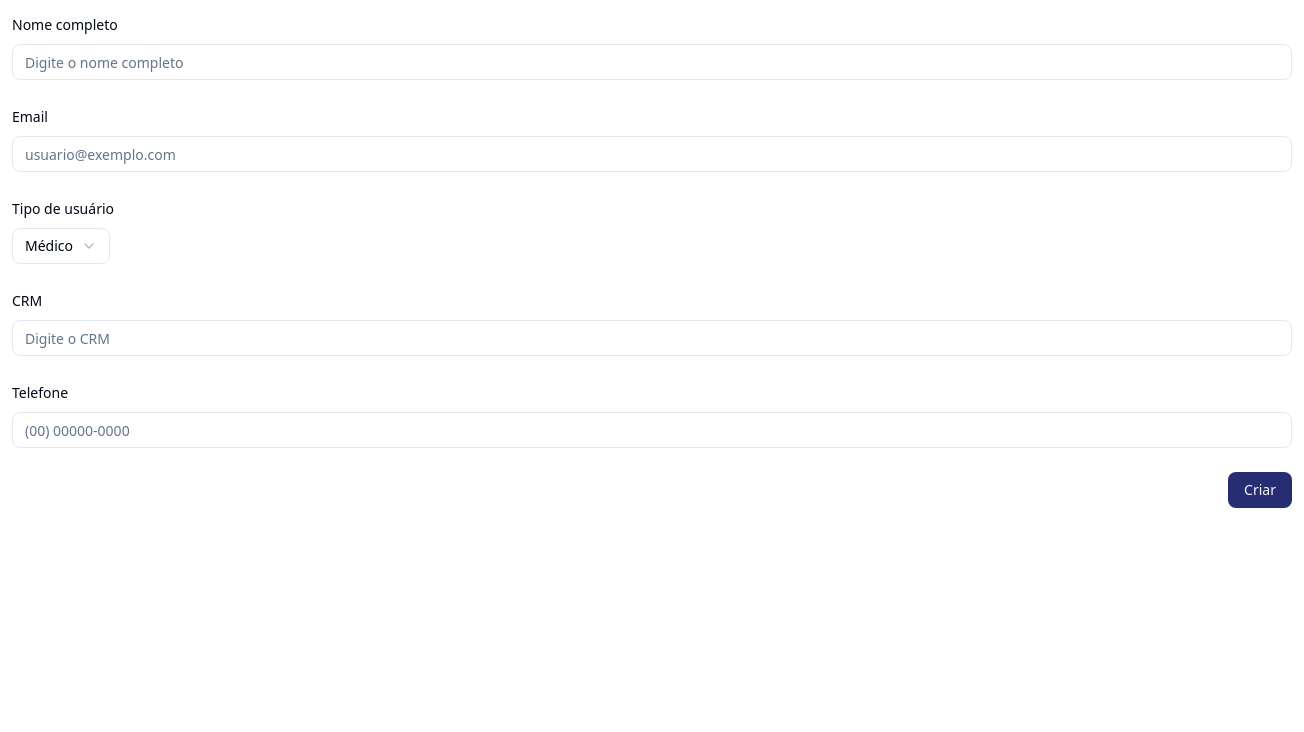
it: UserForm › should validate required fields
Click the button "Criar" at (1260, 490), box [1228,472,1292,508]
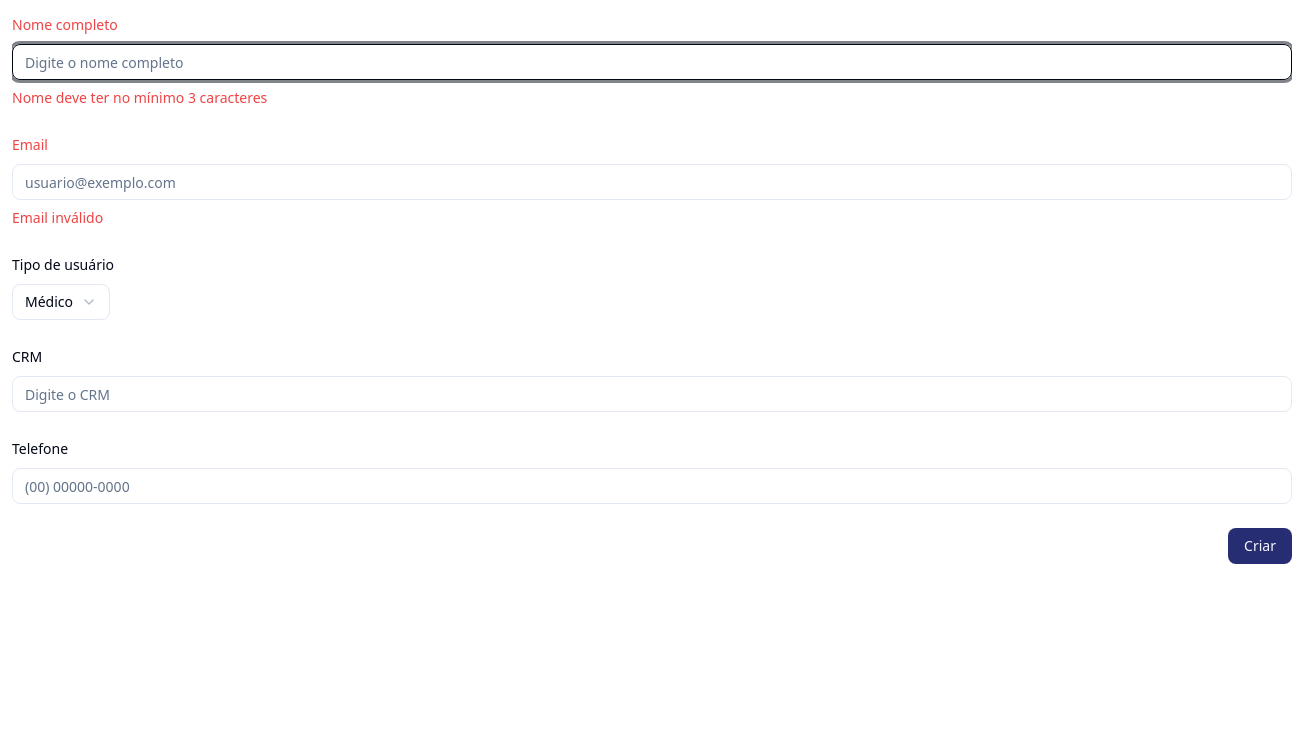
Result: the text "Nome deve ter no mínimo 3 caracteres" is shown at [12,88,267,107]
Result: the text "Email inválido" is shown at [12,208,103,227]
